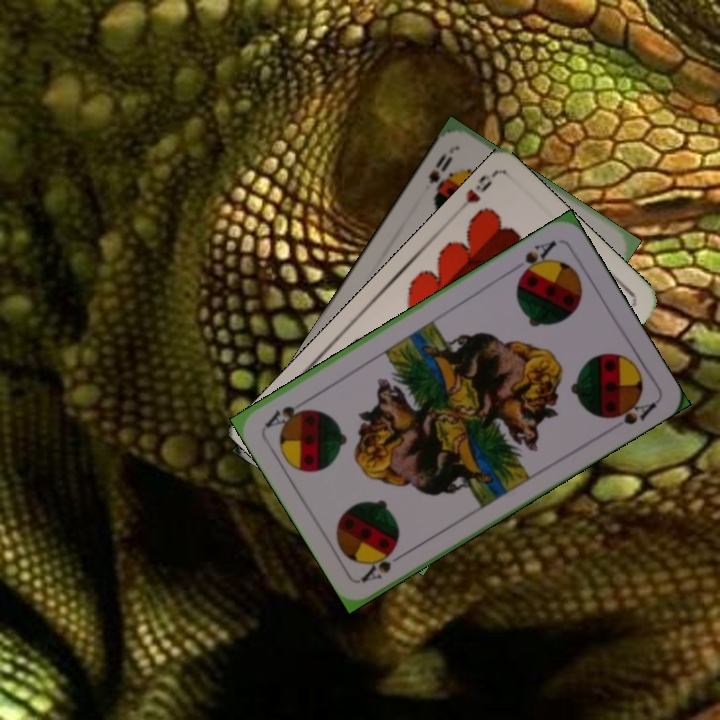H9: (461, 171, 495, 206)
SA: (357, 543, 411, 585), (513, 236, 560, 282)
SO: (424, 148, 456, 202)
